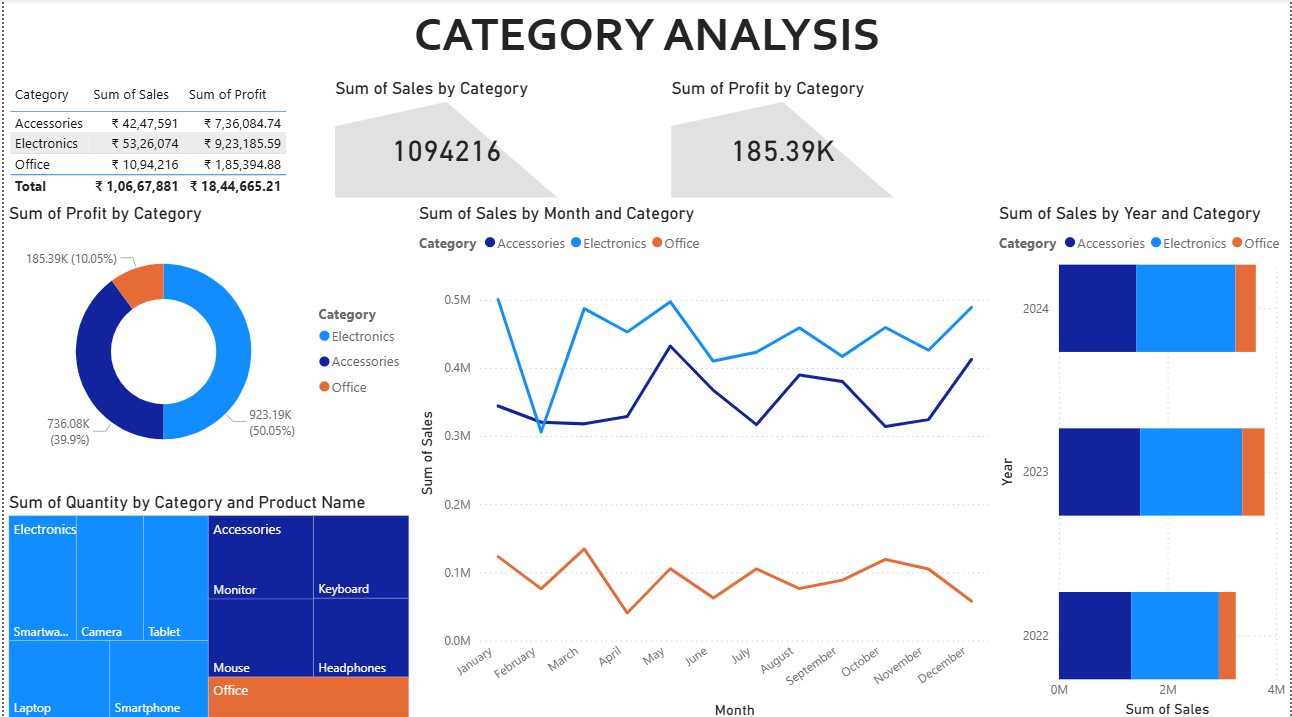

The dashboard page shown, as its layout file describes it:
{"tool":"powerbi","page":{"name":"Category Performance","canvas":[1280,720],"ordinal":3},"visuals":[{"type":"textbox","box":[0,0,1280,78.4],"z":0},{"type":"tableEx","fields":{"Values":["raw_data.Category","Sum(raw_data.Sales)","Sum(raw_data.Profit)"]},"box":[0,78.4,302.3,155.5],"z":1000},{"type":"donutChart","fields":{"Y":["Sum(raw_data.Profit)"],"Category":["raw_data.Category"]},"box":[0,202.8,408,277.4],"z":2000},{"type":"lineChart","fields":{"Category":["raw_data.Order Date.Variation.Date Hierarchy.Month"],"Y":["Sum(raw_data.Sales)"],"Series":["raw_data.Category"]},"box":[408,202.8,577.2,517.5],"z":3000},{"type":"treemap","fields":{"Group":["raw_data.Category"],"Values":["Sum(raw_data.Quantity)"],"Details":["raw_data.Product Name"]},"box":[0,490,408,230],"z":4000},{"type":"barChart","fields":{"Series":["raw_data.Category"],"Category":["raw_data.Order Date.Variation.Date Hierarchy.Year"],"Y":["Sum(raw_data.Sales)"]},"box":[985,203,295,517],"z":5000},{"type":"kpi","fields":{"Indicator":["Sum(raw_data.Sales)"],"TrendLine":["raw_data.Category"]},"box":[324.7,78.4,231.4,124.4],"z":6000},{"type":"kpi","fields":{"Indicator":["Sum(raw_data.Profit)"],"TrendLine":["raw_data.Category"]},"box":[659.3,78.4,231.4,124.4],"z":7000}]}

Visuals, with their boxes in screenshot pixels (x1, y1, x2, y2), scaled from the page's 1280x720 canvas onto the 1292x717 screenshot:
textbox: (left=0, top=0, right=1291, bottom=78)
tableEx - raw_data.Category x Sum(raw_data.Sales): (left=0, top=78, right=305, bottom=233)
donutChart - Sum(raw_data.Profit) x raw_data.Category: (left=0, top=202, right=412, bottom=478)
lineChart - raw_data.Order Date.Variation.Date Hierarchy.Month x Sum(raw_data.Sales): (left=412, top=202, right=994, bottom=716)
treemap - raw_data.Category x Sum(raw_data.Quantity): (left=0, top=488, right=412, bottom=716)
barChart - raw_data.Category x raw_data.Order Date.Variation.Date Hierarchy.Year: (left=994, top=202, right=1291, bottom=716)
kpi - Sum(raw_data.Sales) x raw_data.Category: (left=328, top=78, right=561, bottom=202)
kpi - Sum(raw_data.Profit) x raw_data.Category: (left=665, top=78, right=899, bottom=202)
